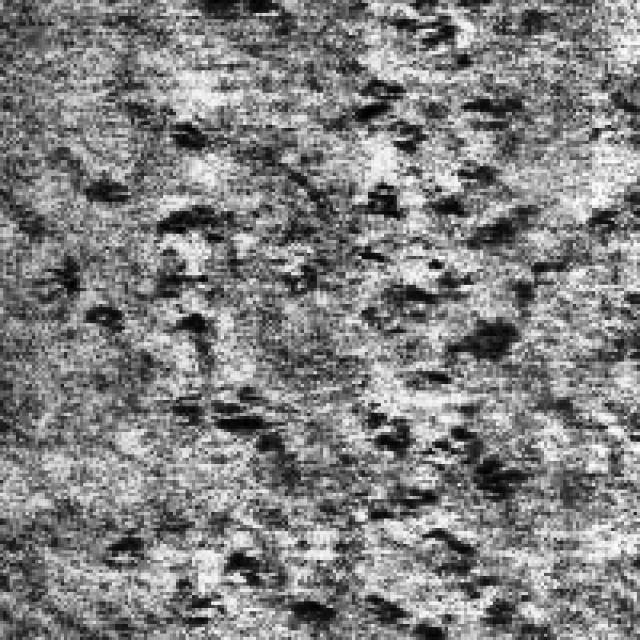Crazing: (314, 3, 566, 381), (326, 252, 560, 630), (76, 93, 262, 432)
